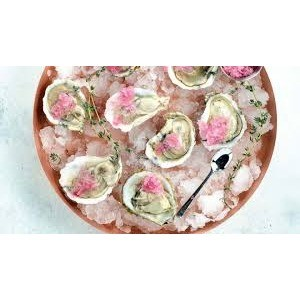oyster_brain food: (49, 78, 130, 136), (54, 150, 118, 204), (147, 115, 190, 167), (122, 179, 174, 222), (201, 93, 240, 149)
